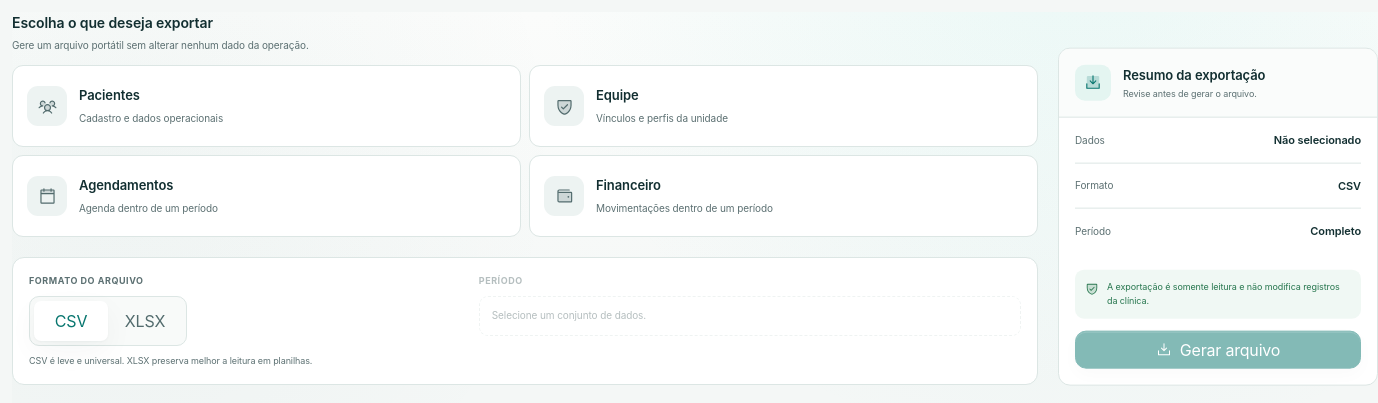
Test case: ExportarDados › desabilita botão enquanto exporta
Click the radio button labelled "Equipe Vínculos e perfis da unidade". click: x=564, y=106
box: [529,65,1038,147]
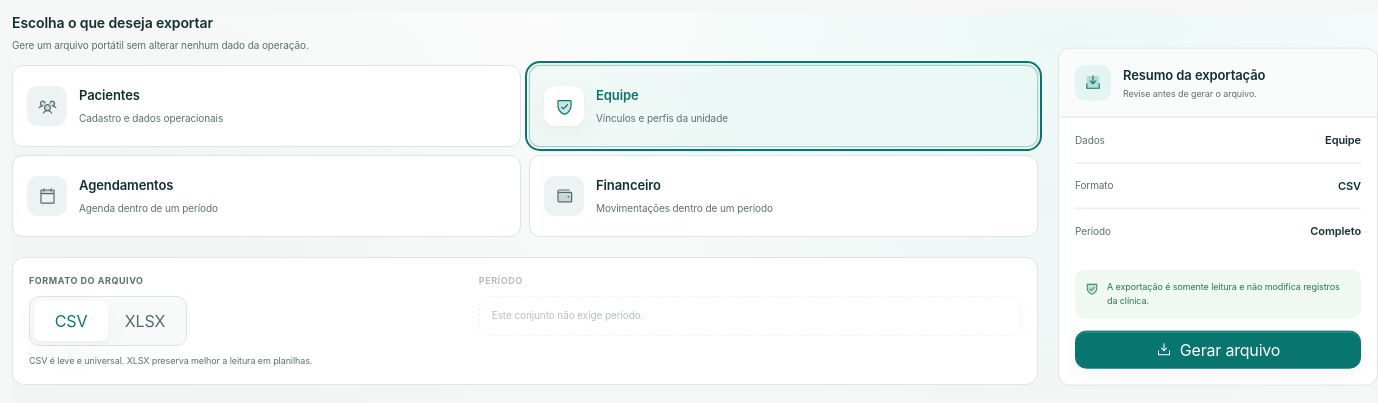
Click the button "Gerar arquivo". click: x=1218, y=349
box: [1075,330,1361,368]
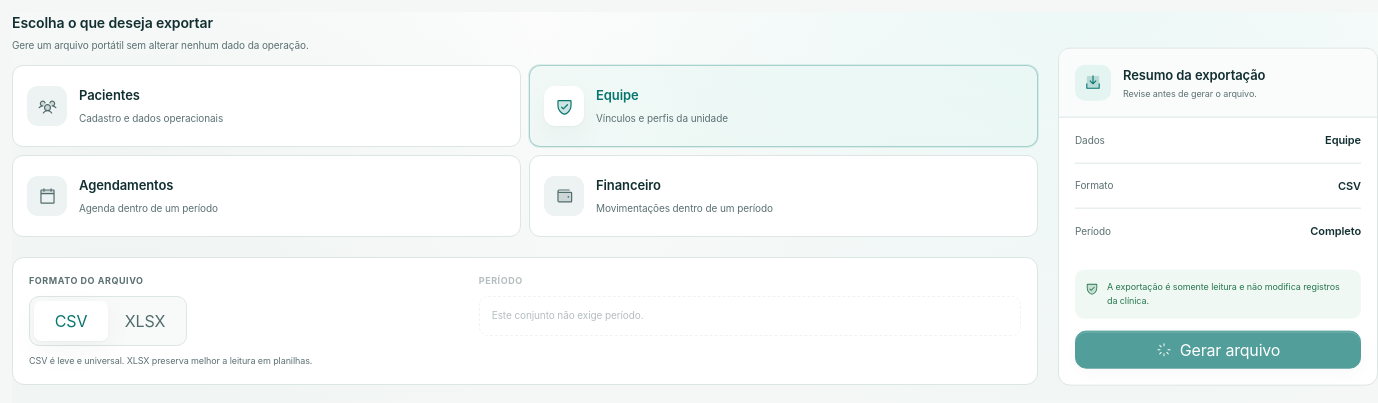
Expected: the button "Gerar arquivo" is disabled, [1075,330,1361,368]
Expected: the icon with test id "spinner-carregando" is shown, [1156,341,1172,357]
